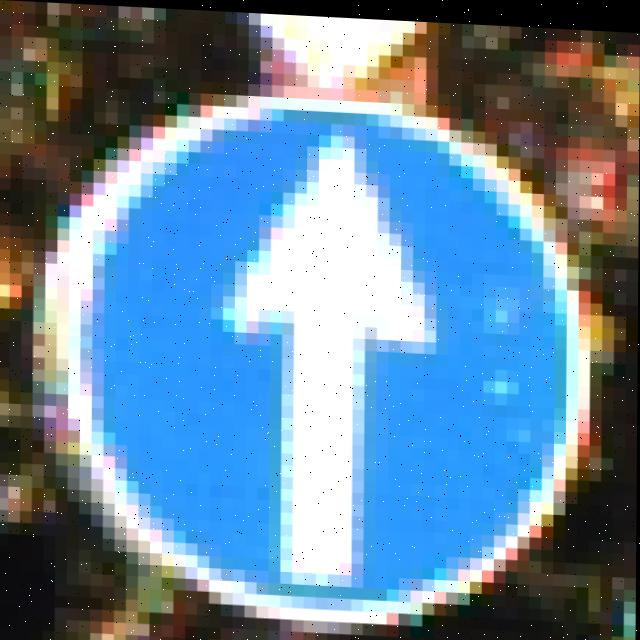compulsory_ahead: (63, 78, 599, 619)
